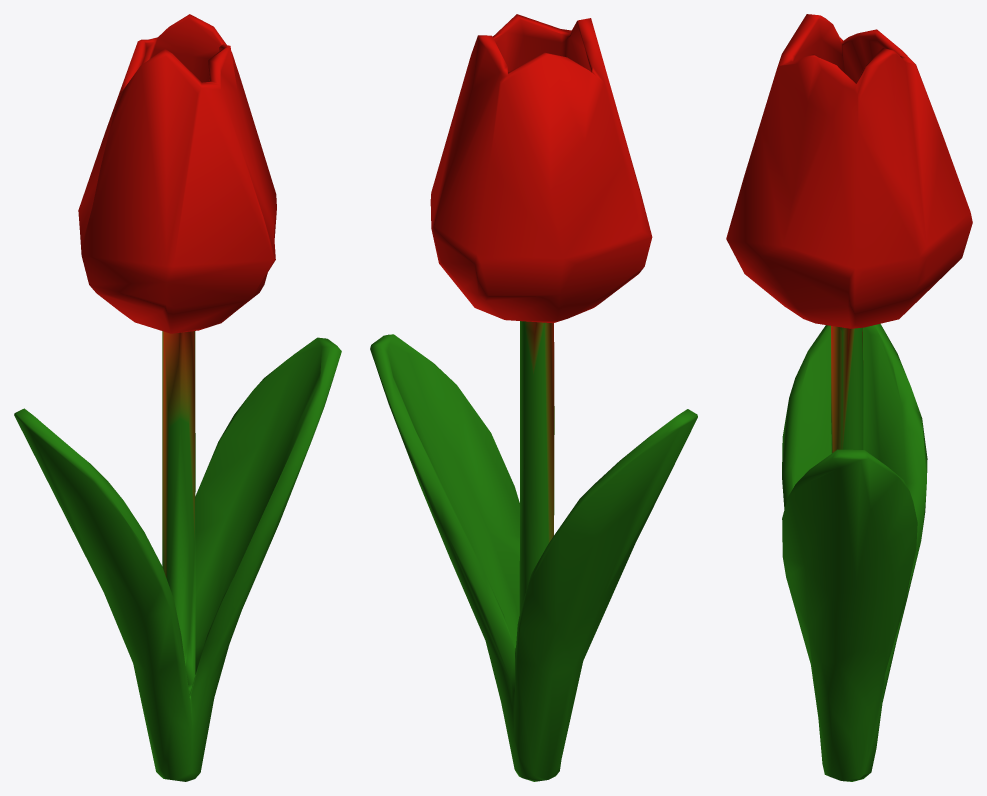
The model's file is gen3d-tulip-lod1.glb.
The picture shows the model from 3 angles, left to right: view 1: azimuth 30°, elevation 25°; view 2: azimuth 150°, elevation 25°; view 3: azimuth 270°, elevation 25°; orthographic projection.
Parts seen in each view (by area): view 1: part_0; view 2: part_0; view 3: part_0.
Part boxes in pixels (<box>): part_0: <box>14,14,341,781</box>; part_0: <box>370,14,697,781</box>; part_0: <box>726,14,972,781</box>.
Bounding box in the file's own units: 0.4405 × 0.9998 × 0.2999.
